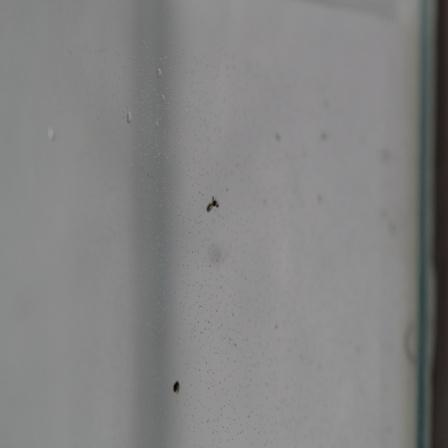Jentik-Nyamuk: (202, 192, 222, 216), (168, 375, 185, 399)
